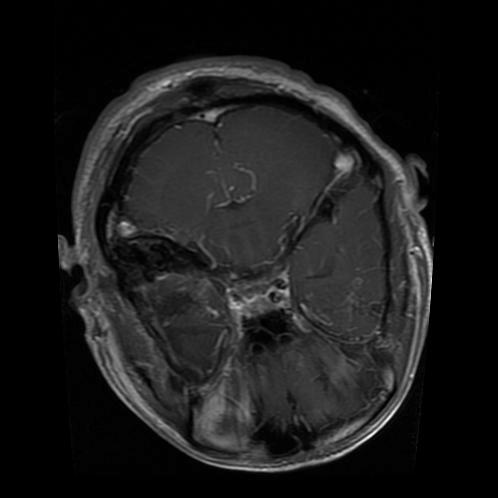Tumour-Glioma: (117, 215, 210, 310)
